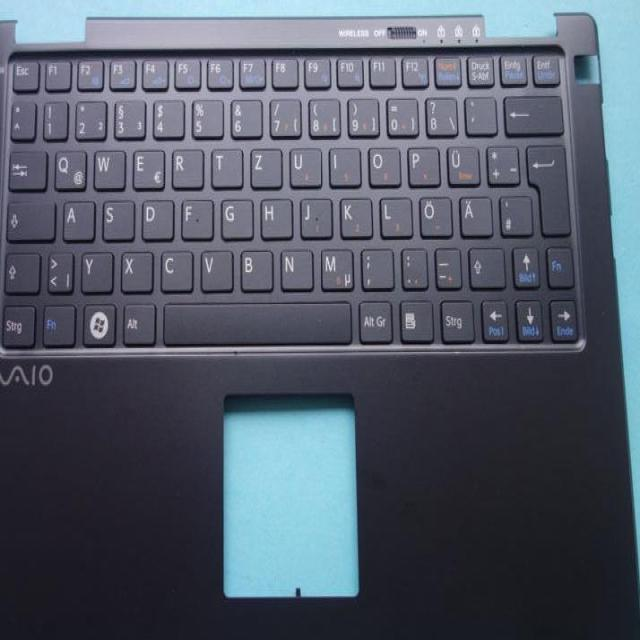0: (382, 92, 416, 132)
1: (40, 96, 66, 137)
2: (72, 96, 104, 136)
3: (110, 95, 144, 136)
4: (149, 95, 181, 135)
5: (188, 95, 221, 135)
6: (227, 95, 259, 135)
7: (267, 93, 300, 135)
8: (305, 94, 338, 134)
9: (344, 92, 377, 132)
a: (59, 196, 92, 237)
accent: (462, 91, 494, 132)
ae: (457, 192, 490, 233)
alt-left: (120, 299, 153, 341)
altgr-right: (356, 296, 390, 339)
b: (236, 244, 271, 288)
c: (157, 245, 190, 288)
caret: (7, 96, 32, 136)
comma: (358, 243, 391, 287)
d: (137, 195, 170, 237)
del: (501, 89, 560, 132)
e: (129, 144, 162, 187)
enter: (523, 139, 568, 232)
f: (178, 195, 211, 236)
g: (217, 195, 250, 236)
h: (257, 193, 290, 235)
hash: (496, 191, 529, 233)
i: (326, 143, 359, 183)
j: (297, 193, 330, 235)
k: (336, 192, 369, 235)
keyboard: (0, 35, 587, 353)
l: (376, 192, 409, 235)
less: (44, 246, 71, 290)
m: (316, 243, 351, 287)
minus: (431, 243, 459, 285)
n: (277, 244, 310, 287)
o: (364, 141, 397, 183)
oe: (415, 191, 449, 233)
p: (404, 141, 437, 183)
plus: (483, 140, 517, 181)
point: (397, 243, 425, 285)
q: (51, 144, 84, 187)
r: (168, 144, 201, 185)
s: (99, 196, 132, 237)
shift-left: (1, 247, 37, 291)
shift-lock: (3, 194, 52, 238)
shift-right: (464, 242, 502, 286)
space: (160, 296, 349, 341)
ss: (422, 92, 455, 132)
strg-left: (0, 298, 32, 344)
strg-right: (437, 296, 472, 339)
t: (208, 143, 240, 184)
tab: (5, 144, 43, 187)
u: (285, 143, 318, 184)
ue: (443, 141, 477, 183)
v: (198, 245, 231, 288)
w: (90, 144, 123, 187)
x: (118, 247, 151, 289)
y: (77, 247, 110, 289)
z: (247, 144, 280, 185)
